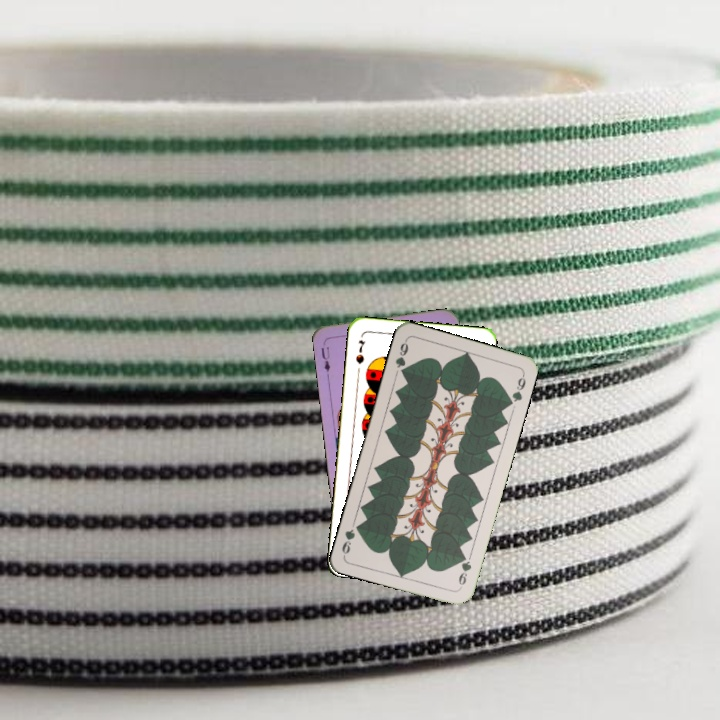EU: (317, 337, 333, 378)
G9: (391, 336, 411, 378), (454, 551, 474, 591)
S7: (352, 336, 367, 367)
